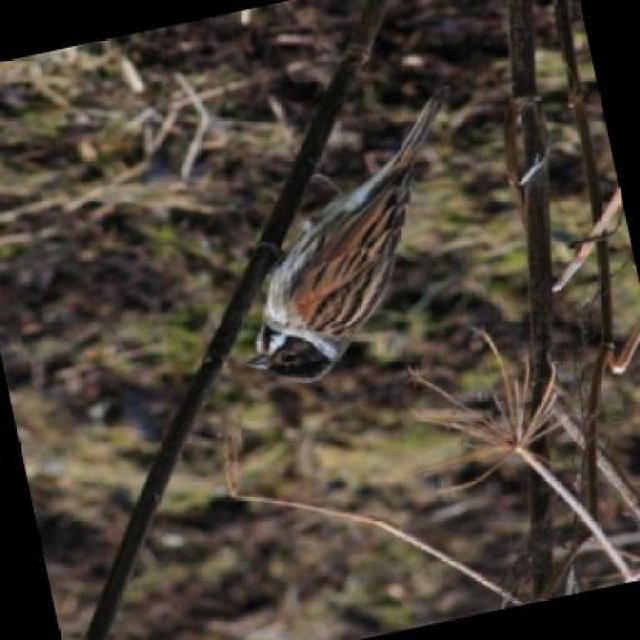Bird: (227, 83, 444, 386)
